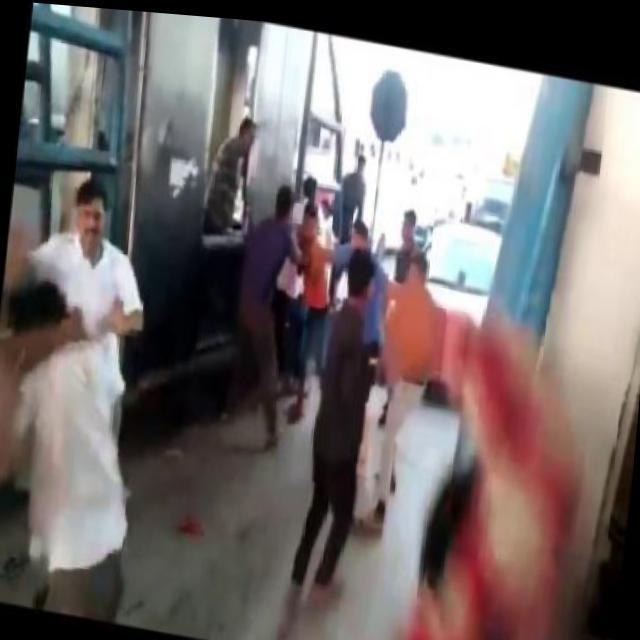fight: (5, 166, 158, 490)
